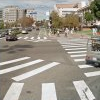crosswalk: (0, 79, 95, 100), (0, 55, 59, 81), (60, 44, 100, 77), (17, 36, 47, 40)
